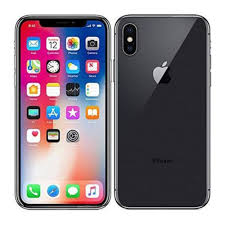iphone: (112, 10, 210, 208), (12, 11, 109, 209)
iphone10: (12, 11, 111, 211), (113, 10, 212, 210)
